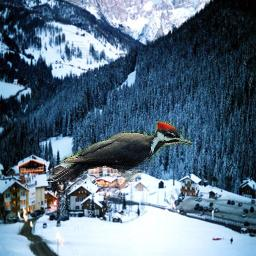Woodpecker: (46, 121, 192, 182)
